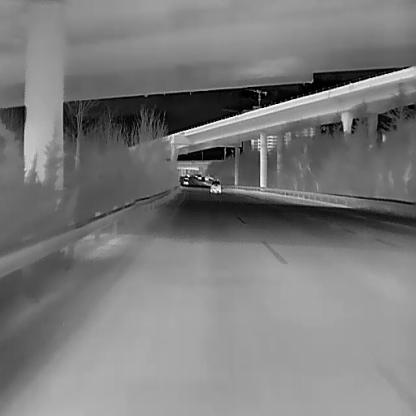car: (209, 180, 220, 192), (183, 176, 188, 184)
